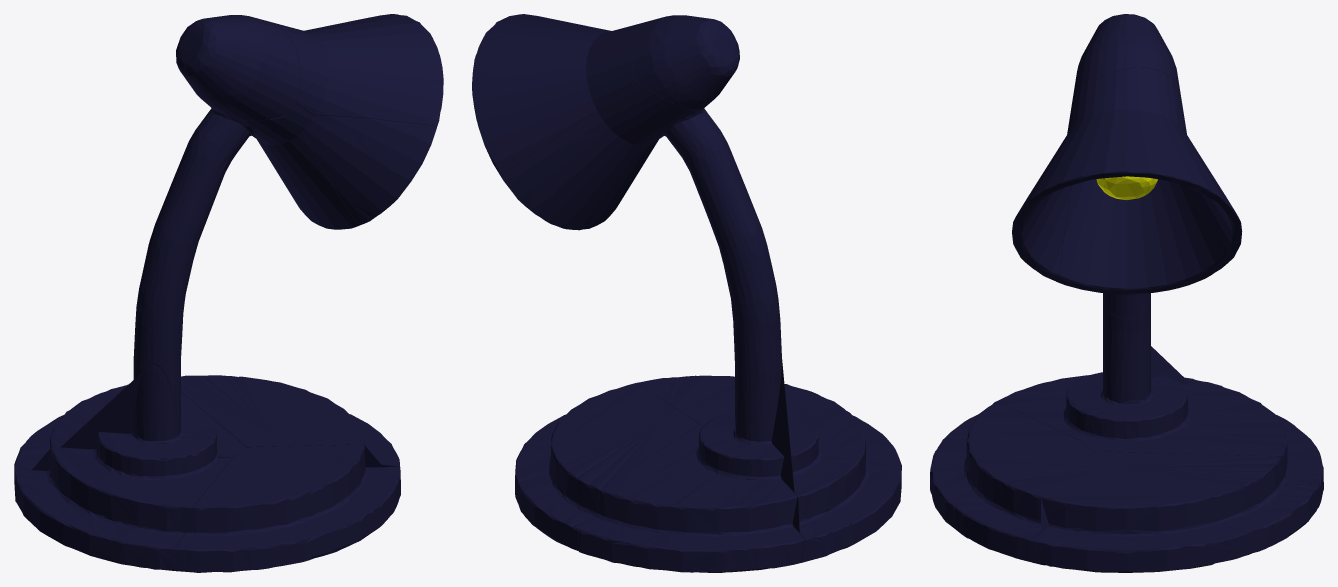
Rendered from broken_lamp.fbx.
The picture shows the model from 3 angles, left to right: view 1: azimuth 30°, elevation 25°; view 2: azimuth 150°, elevation 25°; view 3: azimuth 270°, elevation 25°; orthographic projection.
Parts seen in each view (by area): view 1: Lamp_cell.001, Lamp_cell, Lamp_cell.007, Lamp_cell.005, Lamp_cell.004, Lamp_cell.003, Lamp_cell.006, Lamp_cell.002; view 2: Lamp_cell.002, Lamp_cell.007, Lamp_cell.005, Lamp_cell.003, Lamp_cell.001, Lamp_cell.004, Lamp_cell; view 3: Lamp_cell.003, Lamp_cell.002, Lamp_cell.007, Lamp_cell.005, Lamp_cell, Lamp_cell.004, Lamp_cell.001, Lamp_cell.006.
Boxes of the visible parts, left/top/right/bottom form: Lamp_cell.001: left=14, top=364, right=231, bottom=570; Lamp_cell: left=167, top=444, right=400, bottom=572; Lamp_cell.007: left=135, top=108, right=358, bottom=346; Lamp_cell.005: left=271, top=14, right=443, bottom=126; Lamp_cell.004: left=176, top=15, right=300, bottom=120; Lamp_cell.003: left=180, top=375, right=400, bottom=467; Lamp_cell.006: left=284, top=104, right=436, bottom=225; Lamp_cell.002: left=14, top=318, right=246, bottom=484; Lamp_cell.002: left=578, top=319, right=805, bottom=572; Lamp_cell.007: left=501, top=80, right=780, bottom=346; Lamp_cell.005: left=472, top=14, right=641, bottom=175; Lamp_cell.003: left=515, top=383, right=700, bottom=551; Lamp_cell.001: left=782, top=363, right=901, bottom=562; Lamp_cell.004: left=631, top=15, right=739, bottom=110; Lamp_cell: left=636, top=375, right=889, bottom=443; Lamp_cell.003: left=1033, top=451, right=1318, bottom=572; Lamp_cell.002: left=1079, top=295, right=1323, bottom=507; Lamp_cell.007: left=1056, top=88, right=1241, bottom=318; Lamp_cell.005: left=1019, top=67, right=1242, bottom=242; Lamp_cell: left=930, top=401, right=1094, bottom=564; Lamp_cell.004: left=1070, top=14, right=1179, bottom=115; Lamp_cell.001: left=978, top=341, right=1194, bottom=440; Lamp_cell.006: left=1012, top=185, right=1071, bottom=281.
Bounding box in the file's own units: 331 × 392 × 293.
